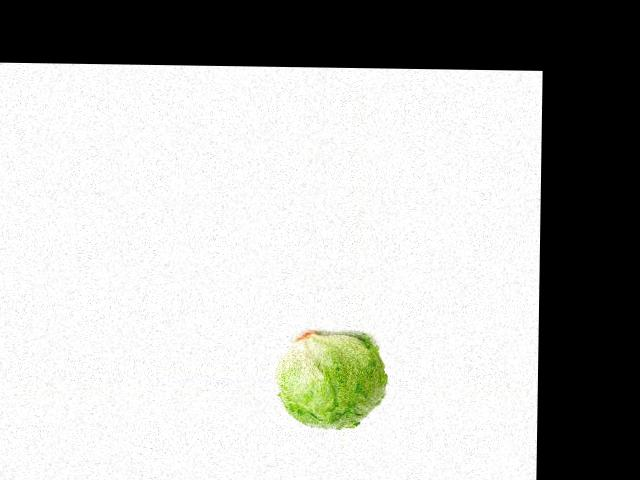lettuce: (281, 333, 387, 430)
